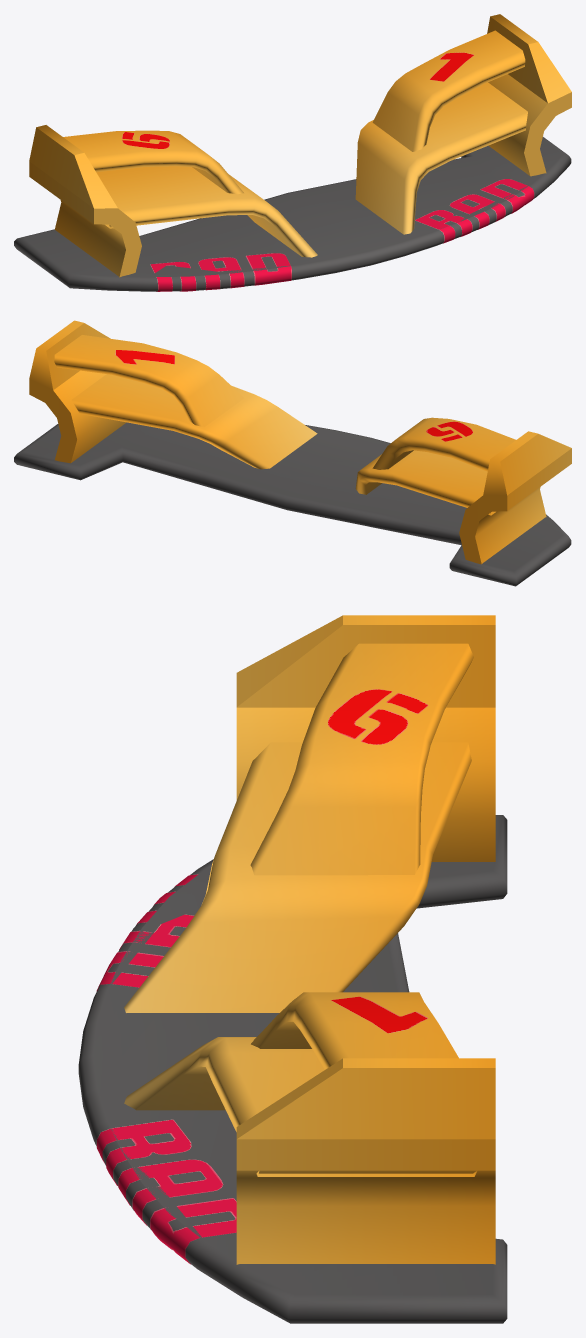
The model's file is Car_06_FrontBumper_Cool.fbx.
3 renders of one model, top to bottom at view 1: azimuth 30°, elevation 25°; view 2: azimuth 150°, elevation 25°; view 3: azimuth 270°, elevation 25°, orthographic. The views are drawn at different scales.
Visible parts, largest first — view 1: Car_06_FrontBumper_Cool; view 2: Car_06_FrontBumper_Cool; view 3: Car_06_FrontBumper_Cool.
Boxes of the visible parts, x1,y1,x2,y2 form: Car_06_FrontBumper_Cool: (14,14,571,291); Car_06_FrontBumper_Cool: (14,320,571,586); Car_06_FrontBumper_Cool: (78,615,507,1323).
Bounding box in the file's own units: 231 × 85.47 × 53.16.
